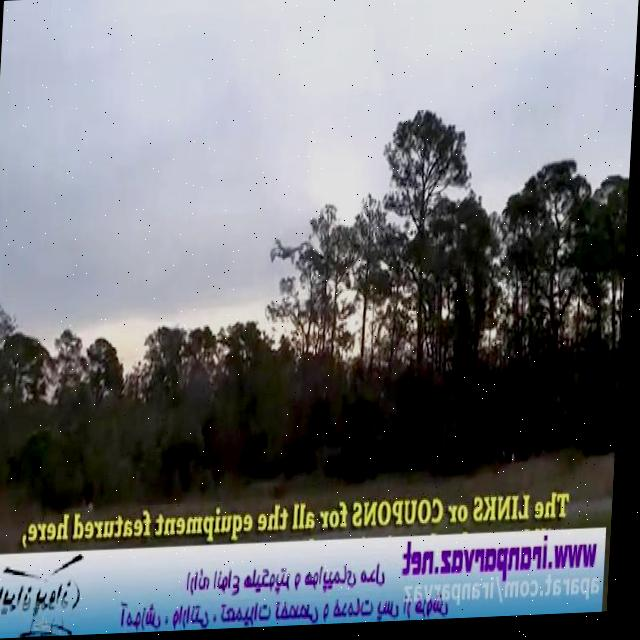drone: (270, 234, 309, 269)
